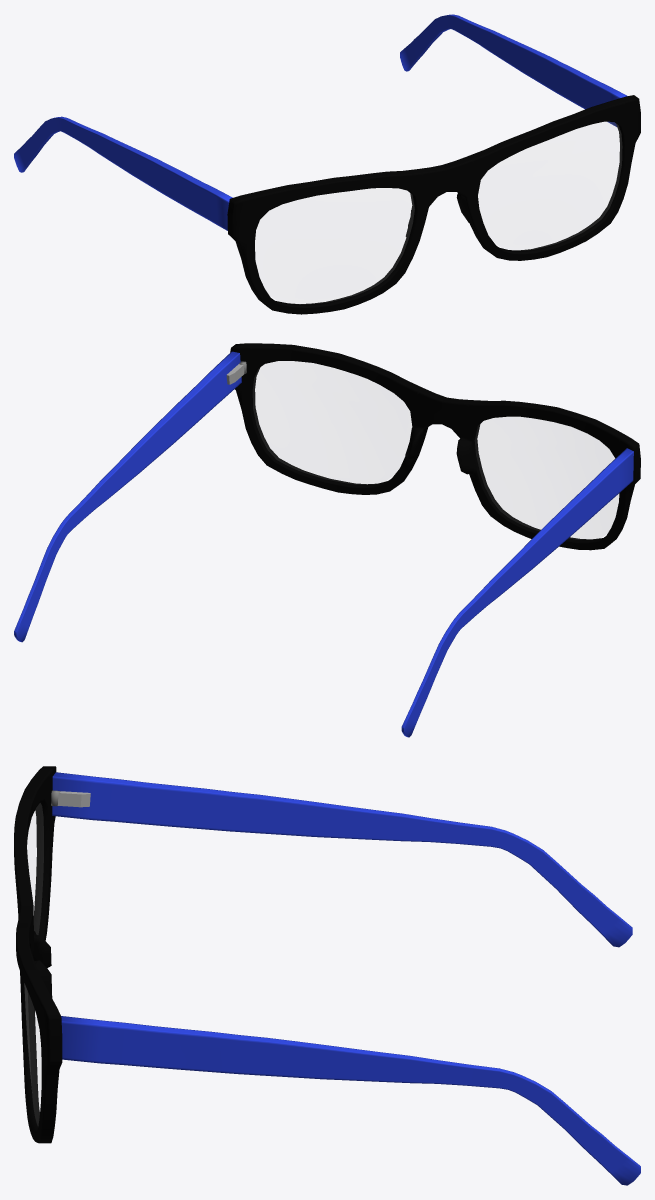
File: glass2.gltf
3 renders of one model, top to bottom at view 1: azimuth 30°, elevation 25°; view 2: azimuth 150°, elevation 25°; view 3: azimuth 270°, elevation 25°, orthographic. The views are drawn at different scales.
Visible parts, largest first — view 1: lens, frame, Cube.001, Cube; view 2: lens, frame, Cube, Cube.001; view 3: Cube, Cube.001, frame, lens, Cylinder.001.
Part boxes in pixels (<box>): lens: <box>255,122,621,303</box>; frame: <box>227,95,640,314</box>; Cube.001: <box>14,116,232,230</box>; Cube: <box>400,14,627,126</box>; lens: <box>253,361,618,539</box>; frame: <box>230,343,640,550</box>; Cube: <box>14,351,241,642</box>; Cube.001: <box>401,448,633,737</box>; Cube: <box>61,1016,640,1185</box>; Cube.001: <box>52,772,632,947</box>; frame: <box>14,766,62,1143</box>; lens: <box>24,804,43,1123</box>; Cylinder.001: <box>51,790,90,807</box>.
Size of the model in its own units: 3.24 by 1.09 by 3.34.
